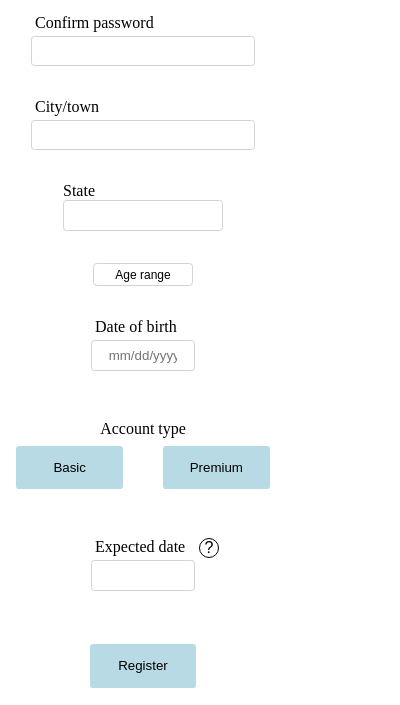
Scenario: info component › should show and hide the info display on mouseenter and mouseleave respectively
(page scrolled)
Hover over the button "?" at (209, 548), box [199, 538, 219, 558]
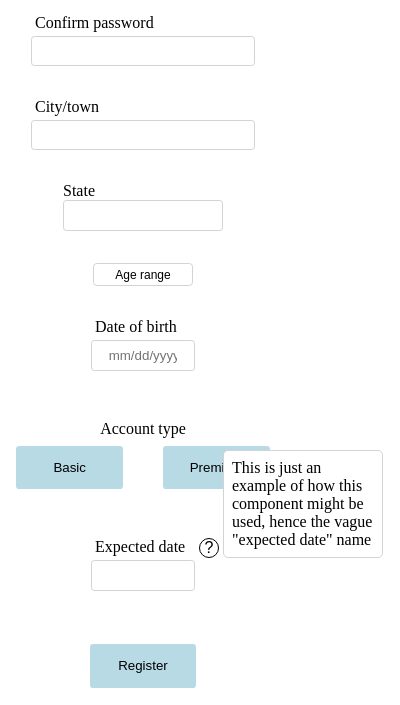
Now the text "This is just an example of how this component might be used, hence the vague \"expected date\" name" is shown, box [232, 459, 372, 548]
Move the pointer off the button "?", box [199, 538, 219, 558]
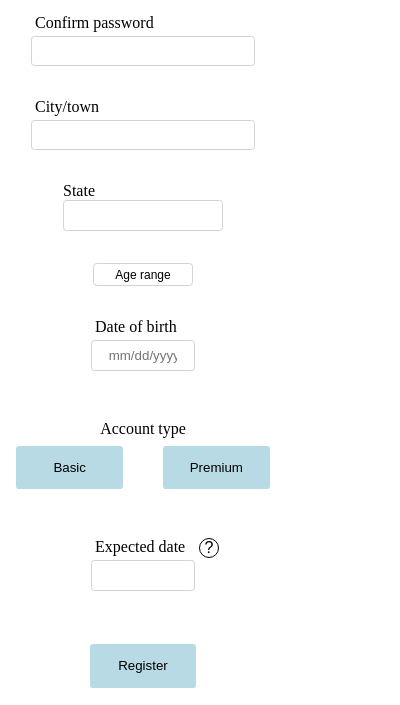
Now the text "This is just an example of how this component might be used, hence the vague \"expected date\" name" is gone
